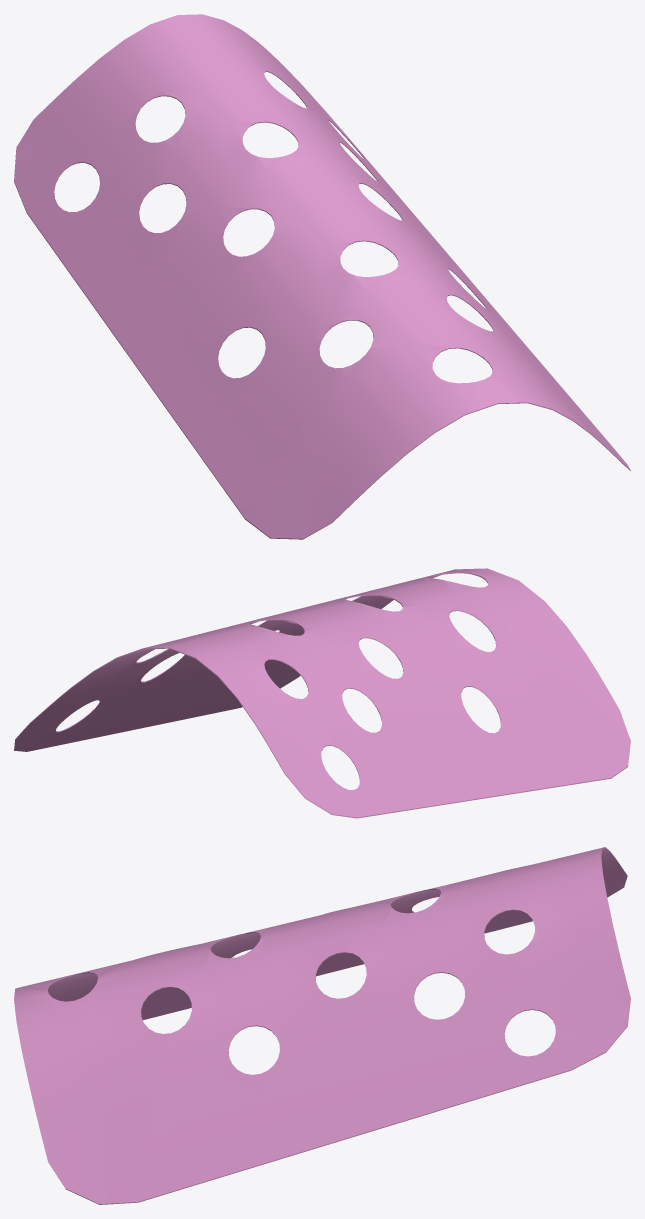
The model's file is Dotted stencil  (1).fbx.
3 renders of one model, top to bottom at view 1: azimuth 30°, elevation 25°; view 2: azimuth 150°, elevation 25°; view 3: azimuth 270°, elevation 25°, orthographic. The views are drawn at different scales.
Parts seen in each view (by area): view 1: dot stencil.001; view 2: dot stencil.001; view 3: dot stencil.001.
Boxes of the visible parts, <box> form: dot stencil.001: <box>14,14,630,539</box>; dot stencil.001: <box>14,568,630,818</box>; dot stencil.001: <box>14,847,630,1204</box>.
Bounding box in the file's own units: 128 × 97.66 × 203.
